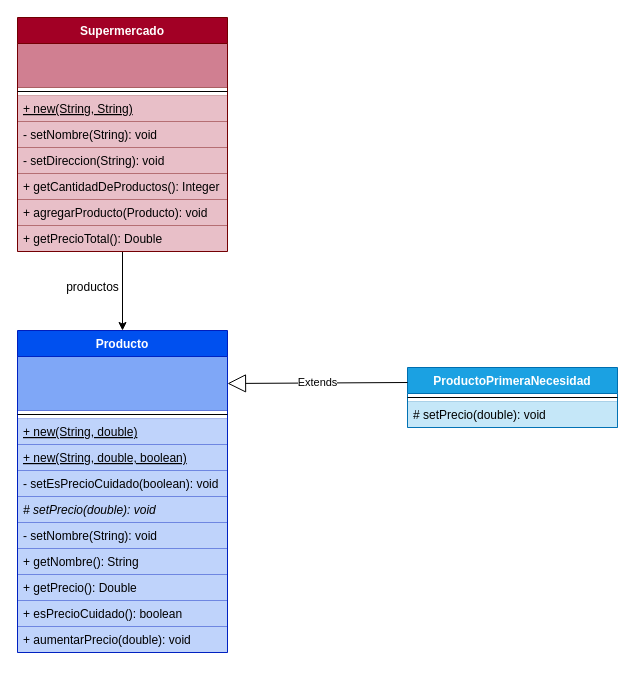
Some shapes in this 635 by 673 pixel diagram are drawn without their labels. The shapes that lost their labels are listed below. From the top down, each one's centre as x and y in pixels, then its label:
At (x=122, y=65): "- nombre: String - direccion: String".
At (x=122, y=383): "- nombre: String - precio: double - esPrecioCuidado: boolean".
